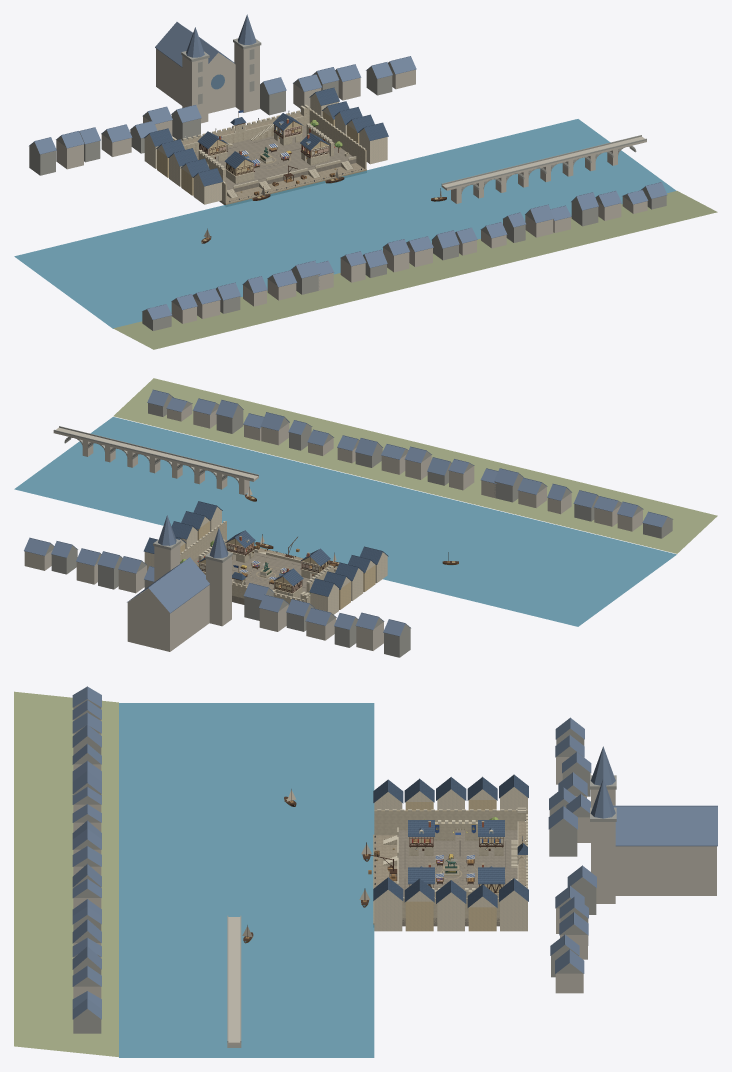
The model's file is orleans_visual.glb.
3 views of the same model, one above another, from view 1: azimuth 30°, elevation 25°; view 2: azimuth 150°, elevation 25°; view 3: azimuth 270°, elevation 25° (orthographic). The views are drawn at different scales.
Parts seen in each view (by area): view 1: DETAIL_chapter_craft, BATCH_main, VIS_floor_town, VIS_quay_floor, VIS_rampart_walk; view 2: DETAIL_chapter_craft, BATCH_main, VIS_floor_town; view 3: DETAIL_chapter_craft, BATCH_main, VIS_floor_town, VIS_quay_floor.
Part boxes in pixels (x1,y1,x2,y2): DETAIL_chapter_craft: [14, 14, 717, 349]; BATCH_main: [172, 104, 366, 203]; VIS_floor_town: [195, 125, 356, 192]; VIS_quay_floor: [219, 163, 364, 204]; VIS_rampart_walk: [182, 114, 309, 152]; DETAIL_chapter_craft: [14, 378, 717, 657]; BATCH_main: [180, 521, 336, 605]; VIS_floor_town: [193, 545, 335, 604]; DETAIL_chapter_craft: [14, 686, 717, 1057]; BATCH_main: [374, 807, 527, 923]; VIS_floor_town: [397, 830, 517, 926]; VIS_quay_floor: [374, 835, 397, 887].
Bounding box in the file's own units: 245 × 41 × 201.
Materials: 46 (20 with a texture image).
